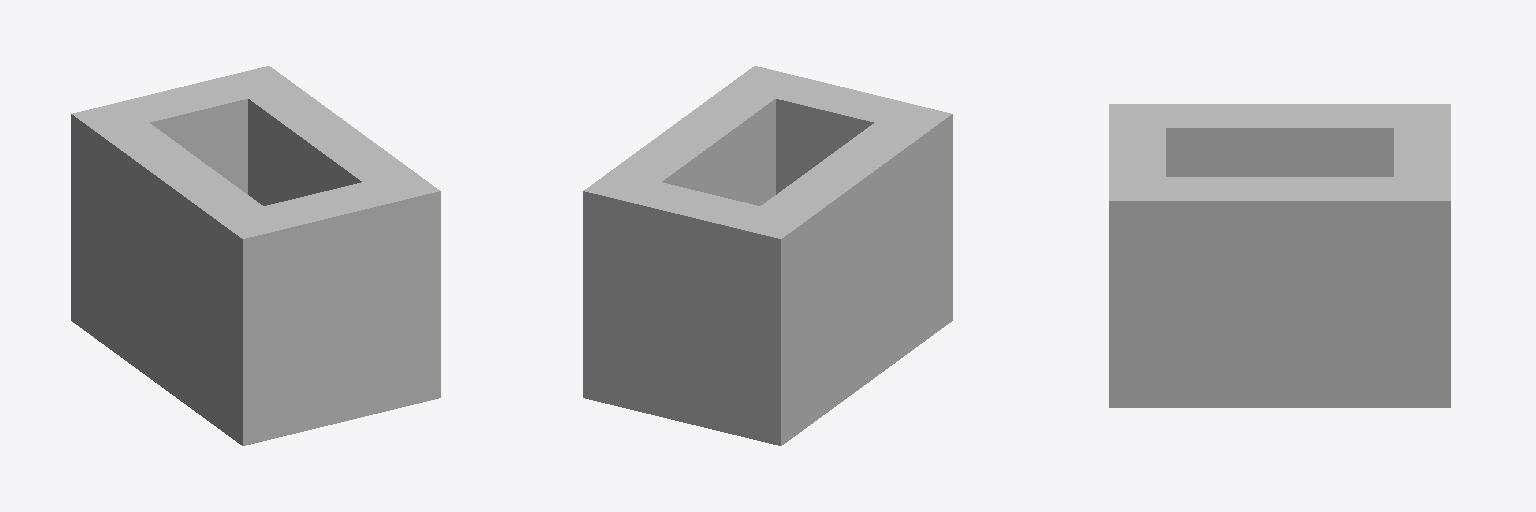
Rendered from E2-Exp-p03.obj.
3 views of the same model, side by side, from view 1: azimuth 30°, elevation 25°; view 2: azimuth 150°, elevation 25°; view 3: azimuth 270°, elevation 25° (orthographic).
Parts seen in each view (by area): view 1: mesh1, mesh0, mesh5, mesh7, mesh9; view 2: mesh3, mesh0, mesh5, mesh7, mesh8; view 3: mesh2, mesh5, mesh6.
Part boxes in pixels (bbox=[...]): mesh1: bbox=[243, 191, 440, 445]; mesh0: bbox=[71, 114, 242, 445]; mesh5: bbox=[72, 66, 439, 238]; mesh7: bbox=[248, 99, 361, 205]; mesh9: bbox=[150, 99, 247, 194]; mesh3: bbox=[583, 191, 780, 445]; mesh0: bbox=[781, 114, 952, 445]; mesh5: bbox=[584, 66, 951, 238]; mesh7: bbox=[662, 99, 775, 205]; mesh8: bbox=[776, 99, 873, 194]; mesh2: bbox=[1109, 201, 1450, 407]; mesh5: bbox=[1109, 104, 1450, 200]; mesh6: bbox=[1166, 128, 1393, 176].
Size of the model in its own units: 0.08 by 0.08 by 0.12.